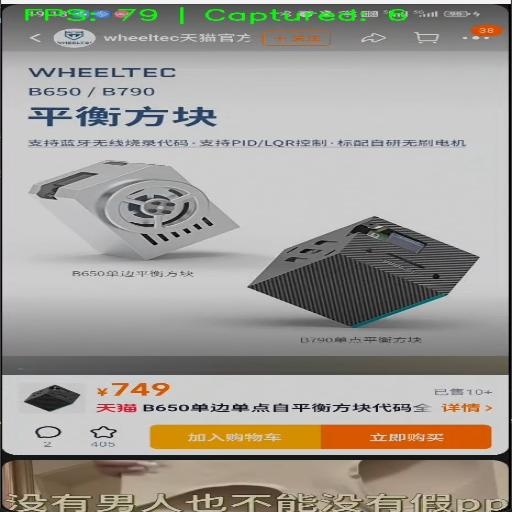back: (11, 25, 56, 45)
butten: (441, 390, 501, 412), (453, 29, 498, 50), (29, 33, 41, 42)
